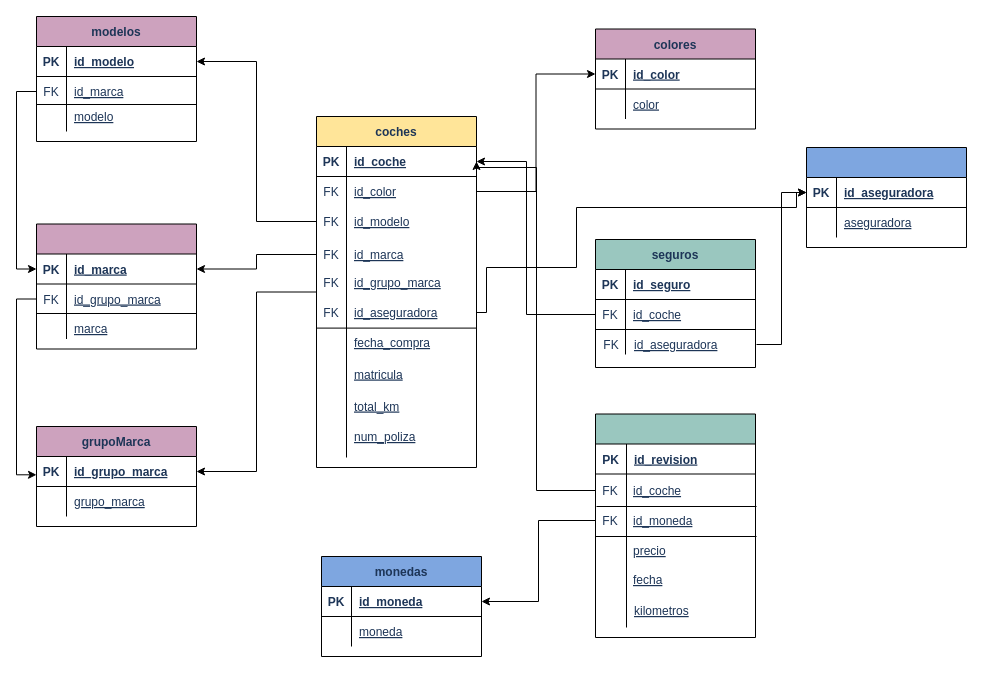
Image size: 983x673. Some labels were removed from this diagram. The box of each missing label's shape, as (x1, y1, x2, y2) in pixels:
aseguradoras: (806, 146, 966, 248)
marcas: (36, 223, 196, 349)
revisiones: (594, 413, 756, 638)
